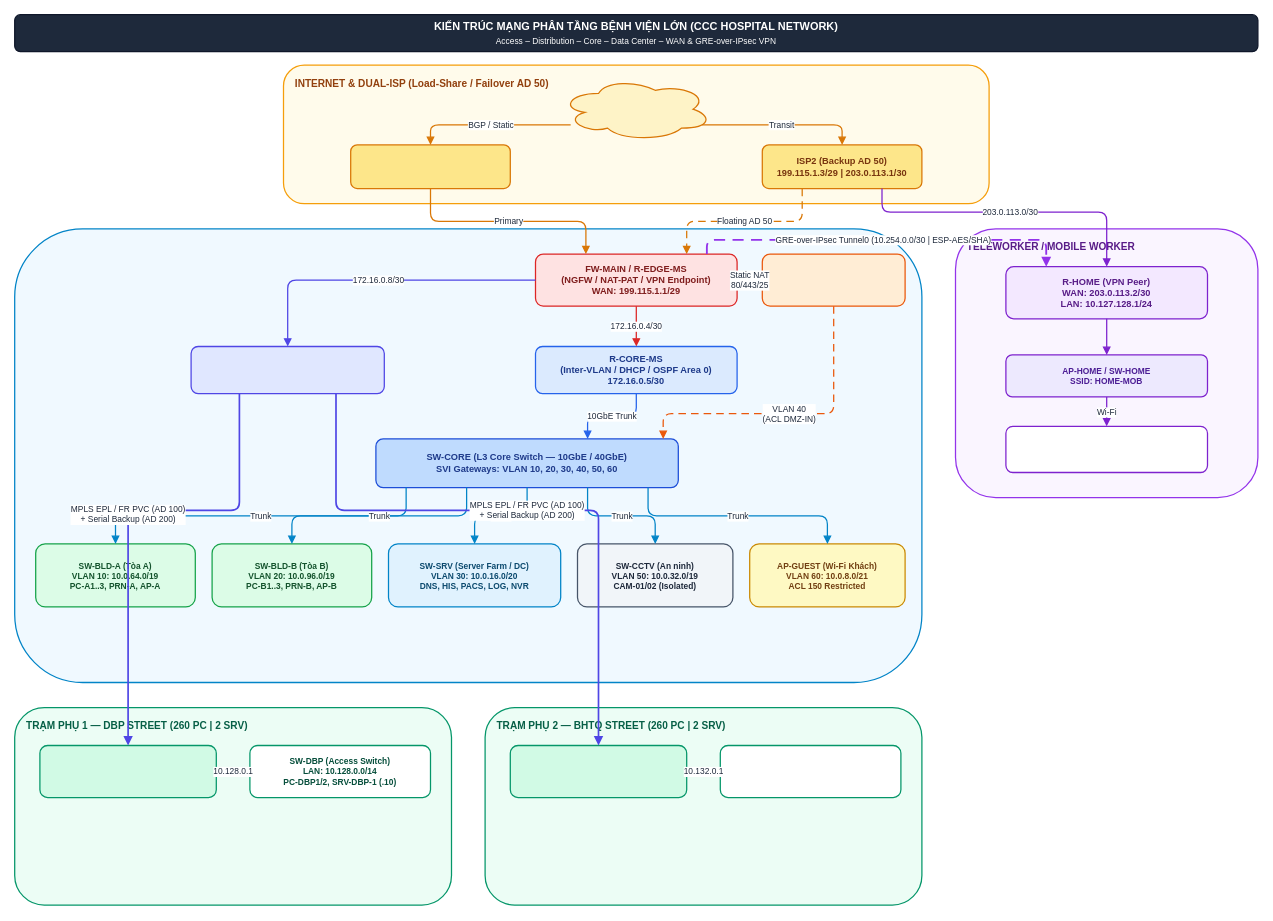
The diagram is 1273 pixels wide and 921 high, and some of its shapes have lost their labels. The box of each missing label's shape, as (x1, y1, x2, y2) in pixels:
DMZ — VLAN 40 10.0.1.0/24 (SW-DMZ) SRV-WEB (.2) | SRV-MAIL (.3): (761, 253, 905, 306)
GW-BHTQ (ISR4331 / 2911) PVC: 172.17.20.2/30 Backup: 172.18.20.2/30: (509, 744, 687, 798)
GW-DBP (ISR4331 / 2911) PVC: 172.17.10.2/30 Backup: 172.18.10.2/30: (39, 744, 217, 798)
GW-MAIN / R-WAN-MS (WAN Hub: Frame Relay + Serial) 172.16.0.10/30: (190, 345, 385, 394)
INTERNET 198.51.100.0/24 SRV-INT (.10): (560, 77, 712, 141)
ISP1 (Primary Fiber) 199.115.1.2/29: (350, 144, 511, 189)
LT-MOBILE1 (Bác sĩ trực) IP: 10.127.128.10/24: (1005, 425, 1208, 473)
MAIN SITE — TP.HCM (600 Workstations | 10 Servers | Single Exit Point): (14, 228, 922, 683)
SW-BHTQ (Access Switch) LAN: 10.132.0.0/14 PC-BHTQ1/2, SRV-BHTQ-1 (.10): (719, 744, 901, 798)
